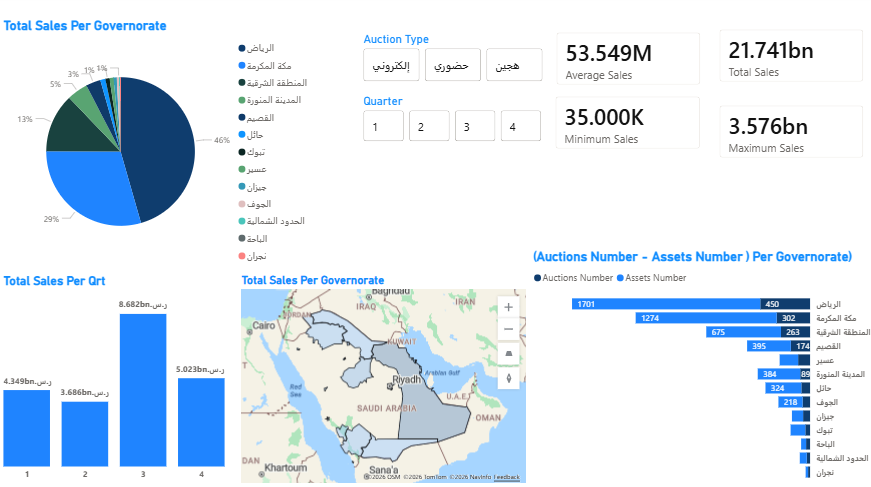

The dashboard page shown, as its layout file describes it:
{"tool":"powerbi","page":{"name":"Page 1","canvas":[1280,720],"ordinal":0},"visuals":[{"type":"azureMap","title":"Total Sales Per Governorate","fields":{"Category":["بيانات المبيعات العقارية السنوية حسب السنة والربع والمنطقة والمبالغ الإجمالي (2).المنطقة","بيانات المبيعات العقارية السنوية حسب السنة والربع والمنطقة والمبالغ الإجمالي (2).المدينة"]},"box":[333.7,406.8,442,313.2],"z":0},{"type":"cardVisual","fields":{"Data":["Sum(بيانات المبيعات العقارية السنوية حسب السنة والربع والمنطقة والمبالغ الإجمالي (2).مجموع_قيمة_البيع)"]},"box":[1035.7,34.3,244.3,110],"z":1000},{"type":"advancedSlicerVisual","title":"Auction Type","fields":{"Values":["بيانات المبيعات العقارية السنوية حسب السنة والربع والمنطقة والمبالغ الإجمالي (2).نوع المزاد"]},"box":[526.8,54.1,273.7,77.6],"z":2000},{"type":"pieChart","title":"Total Sales Per Governorate","fields":{"Category":["بيانات المبيعات العقارية السنوية حسب السنة والربع والمنطقة والمبالغ الإجمالي (2).المنطقة"],"Y":["Sum(بيانات المبيعات العقارية السنوية حسب السنة والربع والمنطقة والمبالغ الإجمالي (2).مجموع_قيمة_البيع)"]},"box":[0,33.7,463.9,368.8],"z":3000},{"type":"barChart","title":"(Auctions Number - Assets Number ) Per Governorate)","fields":{"Y":["Sum(بيانات المبيعات العقارية السنوية حسب السنة والربع والمنطقة والمبالغ الإجمالي (2).عدد_المزادات)","Sum(بيانات المبيعات العقارية السنوية حسب السنة والربع والمنطقة والمبالغ الإجمالي (2).عدد_الأصول)"],"Category":["بيانات المبيعات العقارية السنوية حسب السنة والربع والمنطقة والمبالغ الإجمالي (2).المنطقة"]},"box":[775.6,371.7,504.9,348.3],"z":4000},{"type":"cardVisual","fields":{"Data":["Avg(بيانات المبيعات العقارية السنوية حسب السنة والربع والمنطقة والمبالغ الإجمالي (2).مجموع_قيمة_البيع)"]},"box":[797.4,37.6,244.3,110],"z":5000},{"type":"cardVisual","fields":{"Data":["Max(بيانات المبيعات العقارية السنوية حسب السنة والربع والمنطقة والمبالغ الإجمالي (2).مجموع_قيمة_البيع)"]},"box":[1035.7,144.3,244.3,110],"z":6000},{"type":"cardVisual","fields":{"Data":["Min(بيانات المبيعات العقارية السنوية حسب السنة والربع والمنطقة والمبالغ الإجمالي (2).مجموع_قيمة_البيع)"]},"box":[796.7,132.1,245,110],"z":7000},{"type":"columnChart","title":"Total Sales Per Qrt","fields":{"Category":["بيانات المبيعات العقارية السنوية حسب السنة والربع والمنطقة والمبالغ الإجمالي (2).الربع"],"Y":["Sum(بيانات المبيعات العقارية السنوية حسب السنة والربع والمنطقة والمبالغ الإجمالي (2).مجموع_قيمة_البيع)"]},"box":[0,406.8,333.7,313.2],"z":8000},{"type":"advancedSlicerVisual","title":"Quarter","fields":{"Values":["بيانات المبيعات العقارية السنوية حسب السنة والربع والمنطقة والمبالغ الإجمالي (2).الربع"]},"box":[526.8,144.9,273.7,74.6],"z":9000}]}

Visuals, with their boxes in screenshot pixels (x1, y1, x2, y2), scaled from the page's 1280x720 canvas onto the 871x487 screenshot:
"Total Sales Per Governorate" azureMap: <region>227, 275, 528, 486</region>
cardVisual - Sum(بيانات المبيعات العقارية السنوية حسب السنة والربع والمنطقة والمبالغ الإجمالي (2).مجموع_قيمة_البيع): <region>705, 23, 870, 98</region>
"Auction Type" advancedSlicerVisual: <region>358, 37, 545, 89</region>
"Total Sales Per Governorate" pieChart: <region>0, 23, 316, 272</region>
"(Auctions Number - Assets Number ) Per Governorate)" barChart: <region>528, 251, 870, 486</region>
cardVisual - Avg(بيانات المبيعات العقارية السنوية حسب السنة والربع والمنطقة والمبالغ الإجمالي (2).مجموع_قيمة_البيع): <region>543, 25, 709, 100</region>
cardVisual - Max(بيانات المبيعات العقارية السنوية حسب السنة والربع والمنطقة والمبالغ الإجمالي (2).مجموع_قيمة_البيع): <region>705, 98, 870, 172</region>
cardVisual - Min(بيانات المبيعات العقارية السنوية حسب السنة والربع والمنطقة والمبالغ الإجمالي (2).مجموع_قيمة_البيع): <region>542, 89, 709, 164</region>
"Total Sales Per Qrt" columnChart: <region>0, 275, 227, 486</region>
"Quarter" advancedSlicerVisual: <region>358, 98, 545, 148</region>
